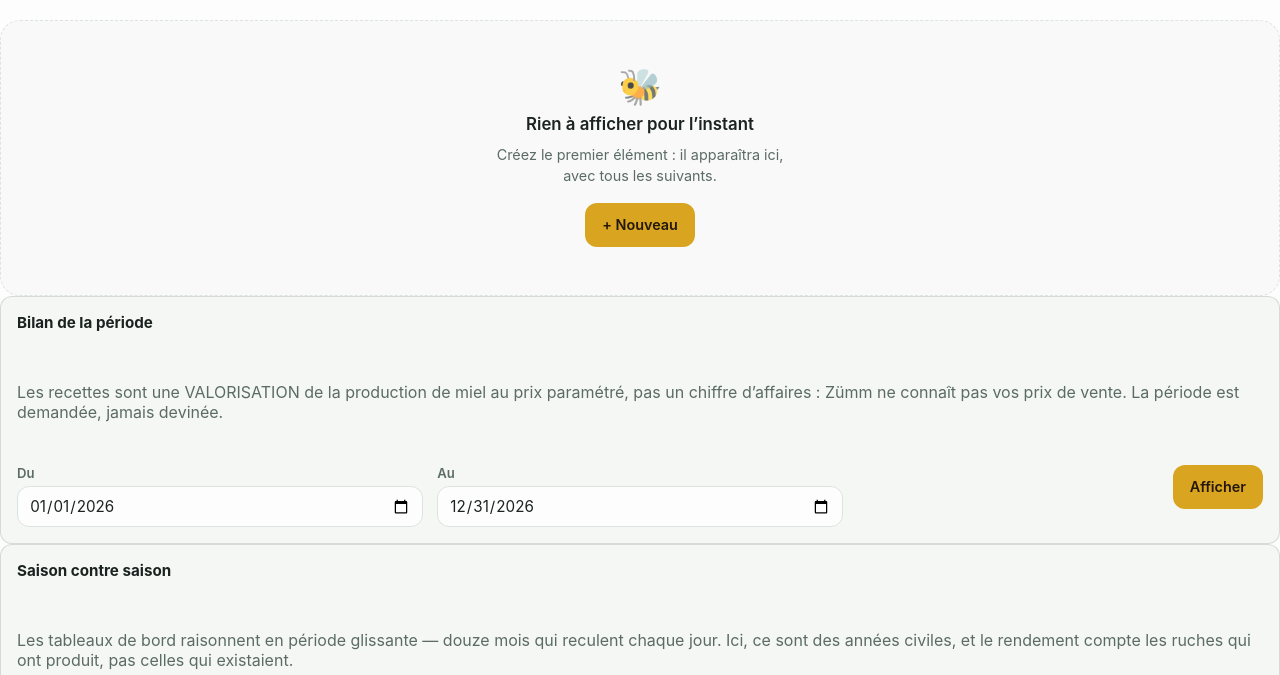
Test: comptabilité › répète que les dépenses non affectées ne sont pas réparties
Click the button "Afficher". click: click(1218, 487)
box: left=1173, top=465, right=1263, bottom=509
(page scrolled)
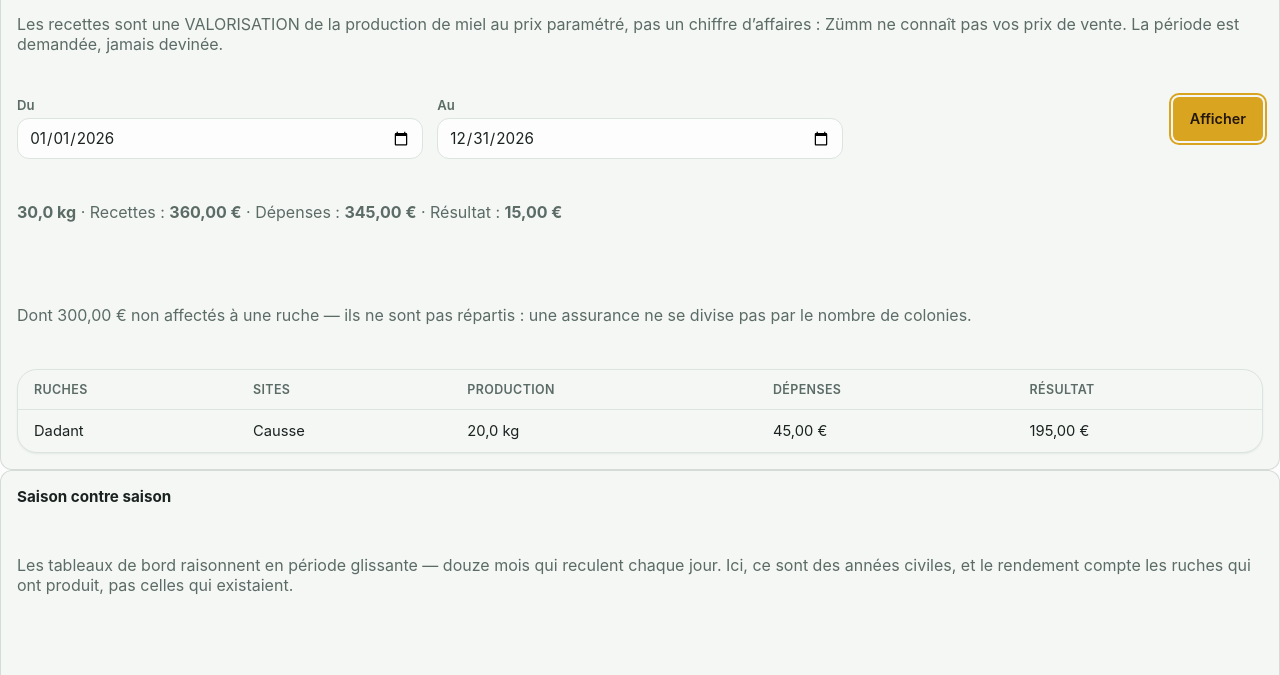
Check: the text "une assurance ne se divise pas" is shown, box left=17, top=305, right=972, bottom=325
